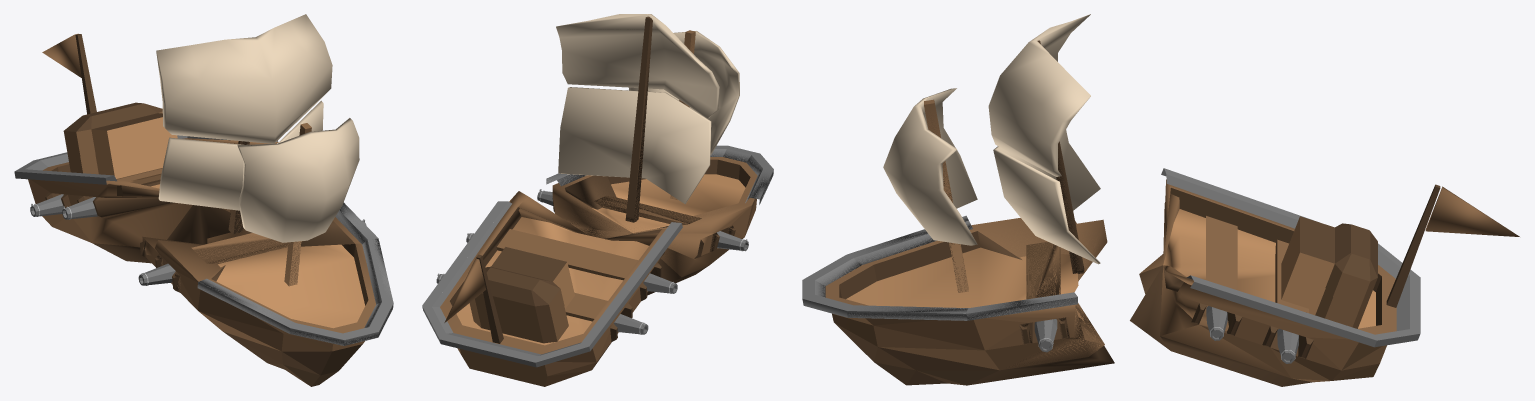
The model's file is Base Long Body 01.fbx.
3 renders of one model, left to right at view 1: azimuth 30°, elevation 25°; view 2: azimuth 150°, elevation 25°; view 3: azimuth 270°, elevation 25°, orthographic. The views are drawn at different scales.
Visible parts, largest first — view 1: Cañonero.002; view 2: Cañonero.002; view 3: Cañonero.002.
Part boxes in pixels (x1,y1,x2,y2): Cañonero.002: (14, 14, 393, 386); Cañonero.002: (422, 14, 773, 386); Cañonero.002: (802, 14, 1519, 386).
Bounding box in the file's own units: 989 × 1301 × 2476.
